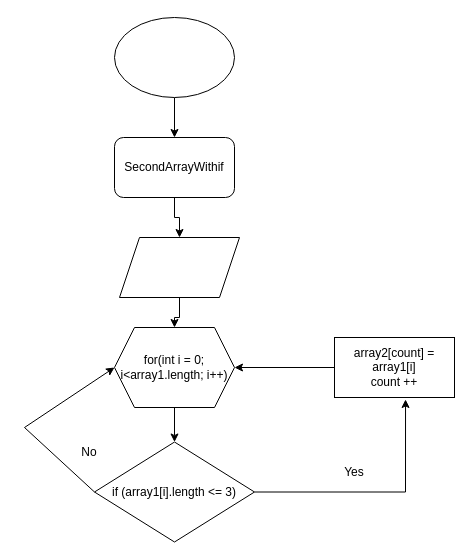
Image size: 472x560. Some labels were removed from this diagram. Here are the shapes that lost their labels. From the top down, the box of each, then its label:
(114, 16, 234, 98): Start
(118, 236, 240, 298): string[] array1 string[] array2 int count = 0
